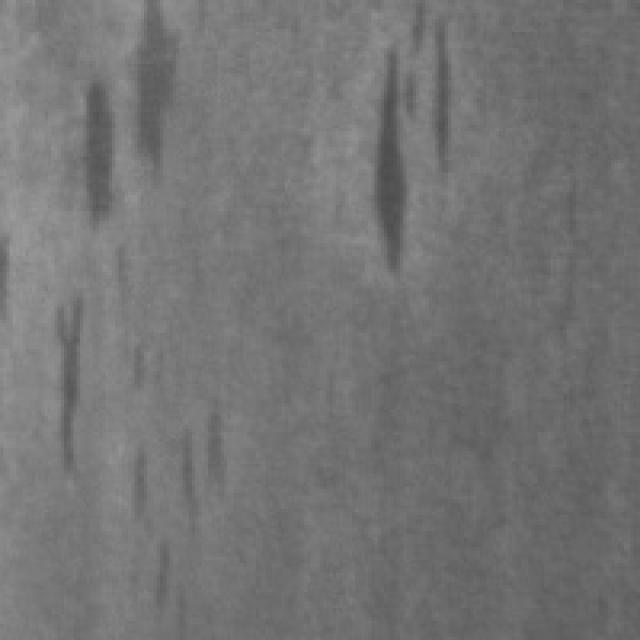inclusion: (122, 336, 224, 627), (358, 0, 461, 275), (51, 54, 122, 237), (121, 0, 182, 198), (38, 285, 96, 480)
